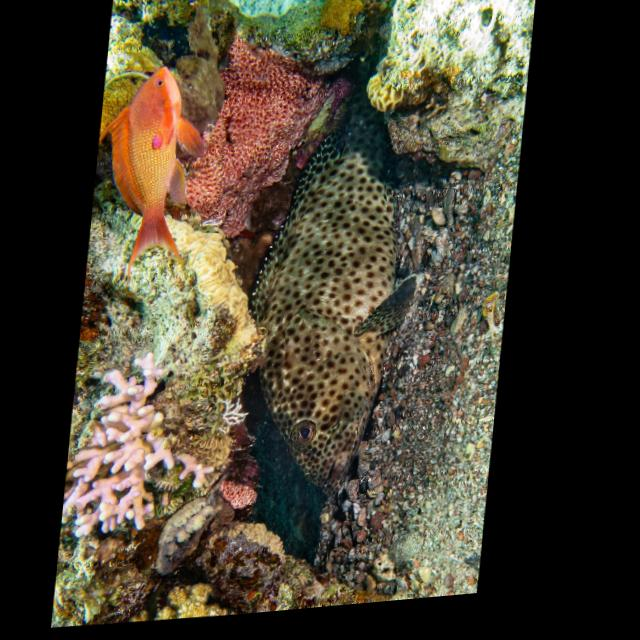Groupers: (228, 48, 436, 503)
